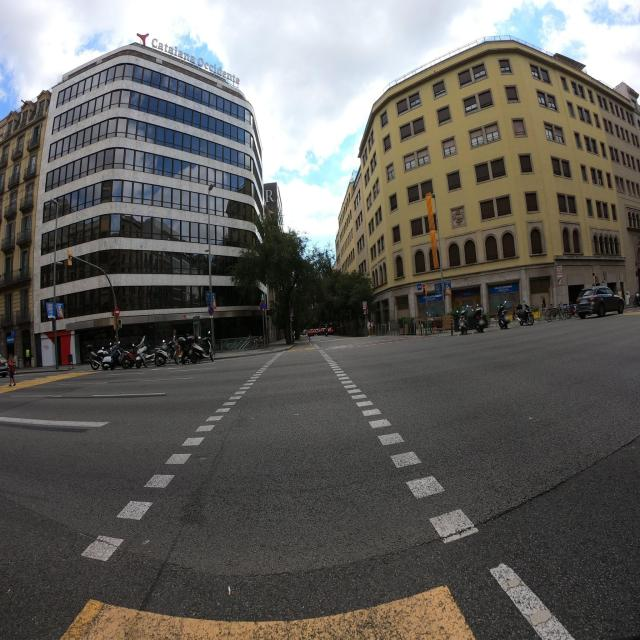forb_stopping: (259, 302, 267, 313), (208, 307, 214, 315)
